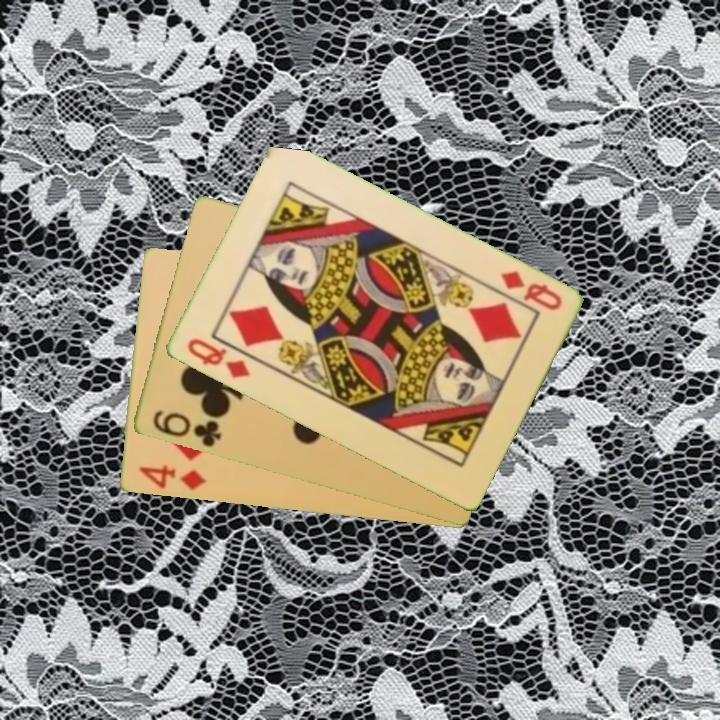4d: (135, 461, 209, 493)
6c: (148, 407, 224, 450)
Qd: (183, 334, 252, 382), (496, 267, 565, 314)
